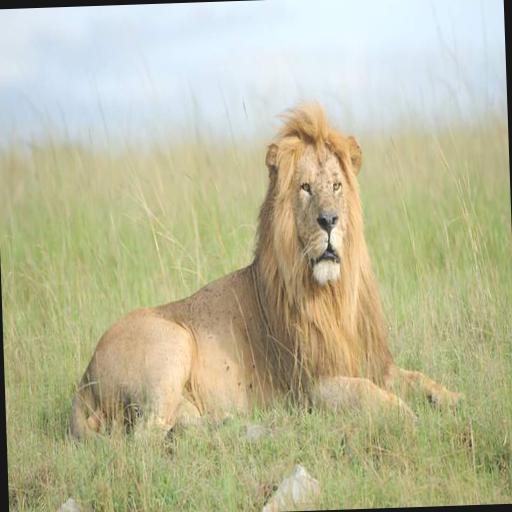lions: (45, 28, 404, 446)
